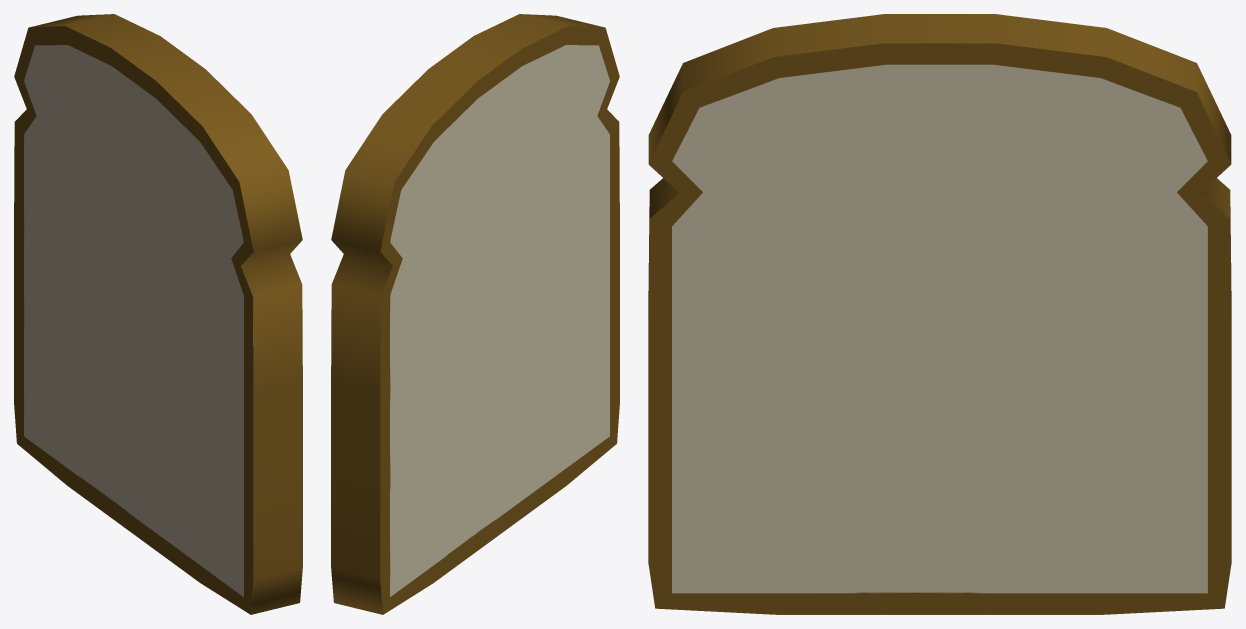
File: bread.fbx
The picture shows the model from 3 angles, left to right: view 1: azimuth 30°, elevation 25°; view 2: azimuth 150°, elevation 25°; view 3: azimuth 270°, elevation 25°; orthographic projection. The views are drawn at different scales.
Visible parts, largest first — view 1: Plane; view 2: Plane; view 3: Plane.
Boxes of the visible parts, x1,y1,x2,y2 form: Plane: [14, 14, 302, 614]; Plane: [331, 14, 619, 614]; Plane: [648, 14, 1231, 614].
Size of the model in its own units: 38.38 by 351 by 324.
1 material, 1 textured.
